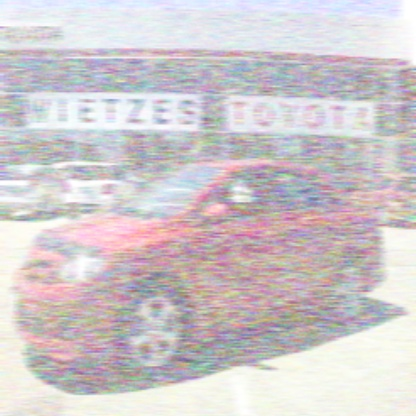Vehicle: (5, 155, 393, 386)
